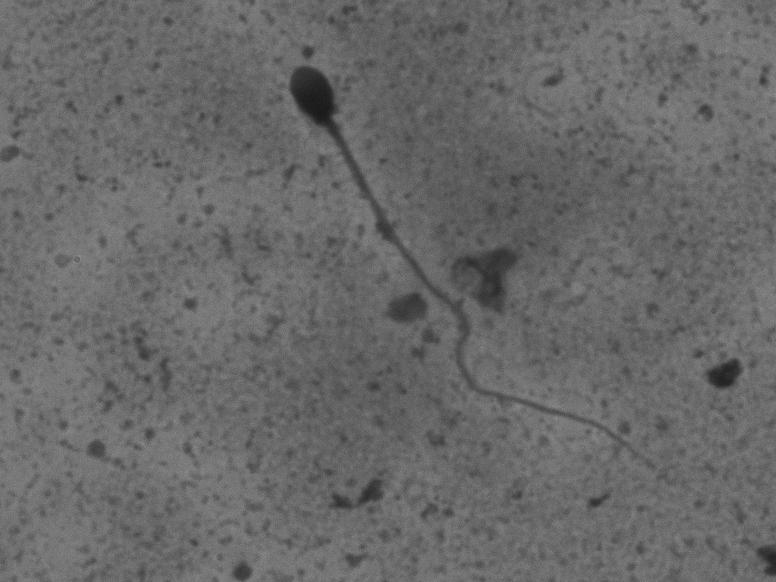Normal: (265, 56, 696, 495)
